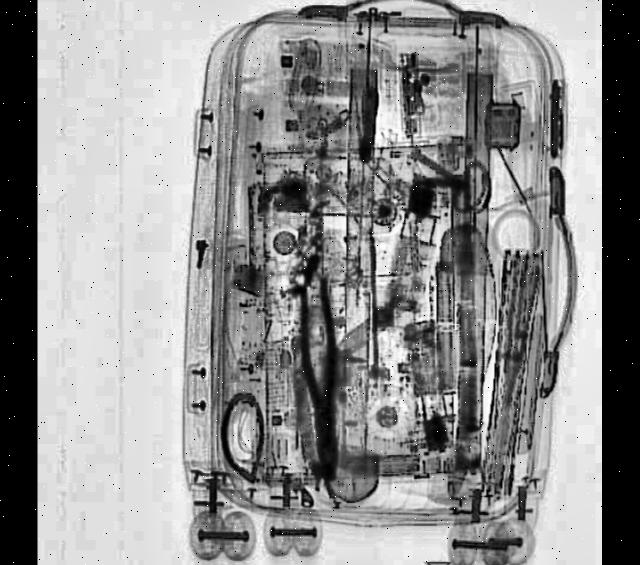Pliers: (294, 278, 345, 480)
